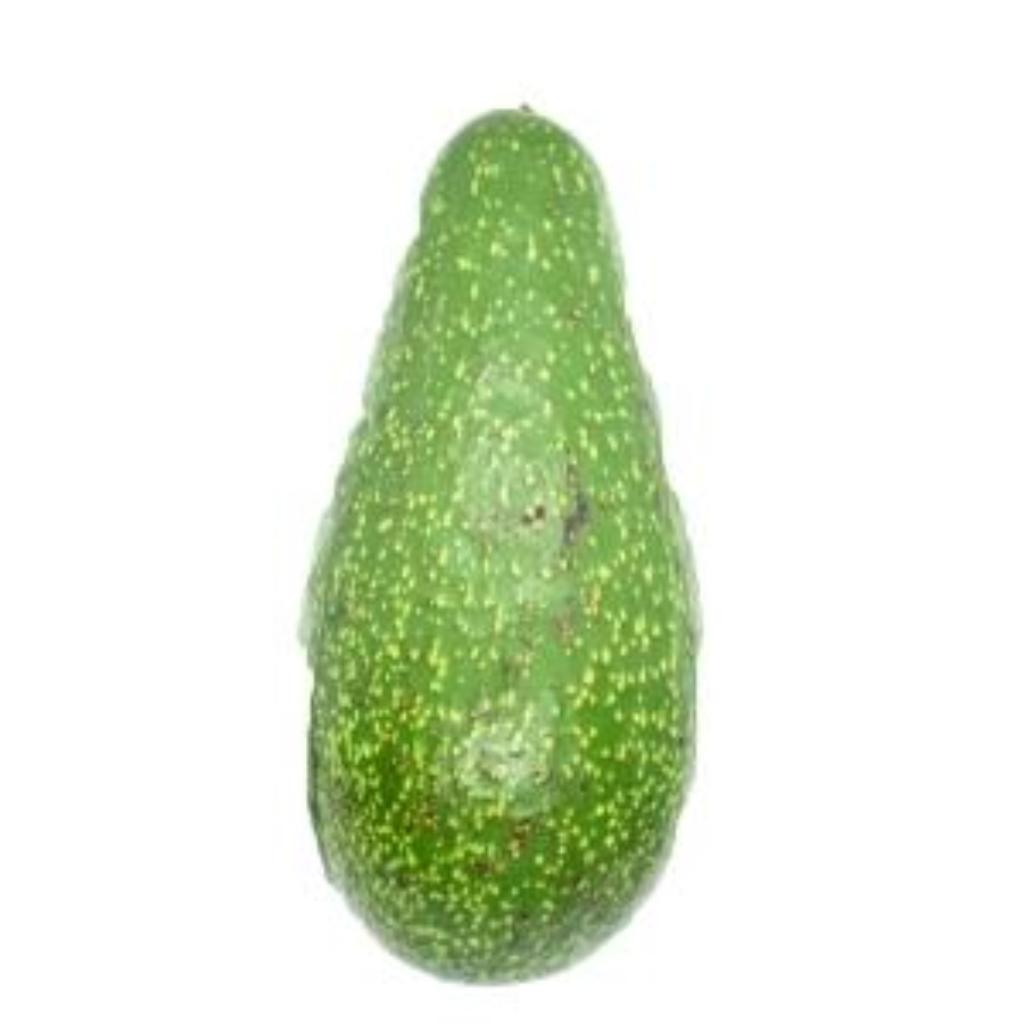cercospora: (290, 99, 710, 989)
